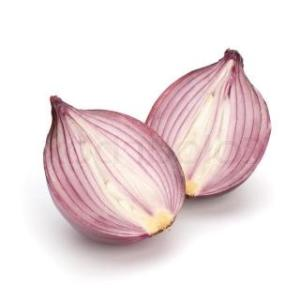onion: (40, 94, 188, 246), (146, 48, 272, 204)
